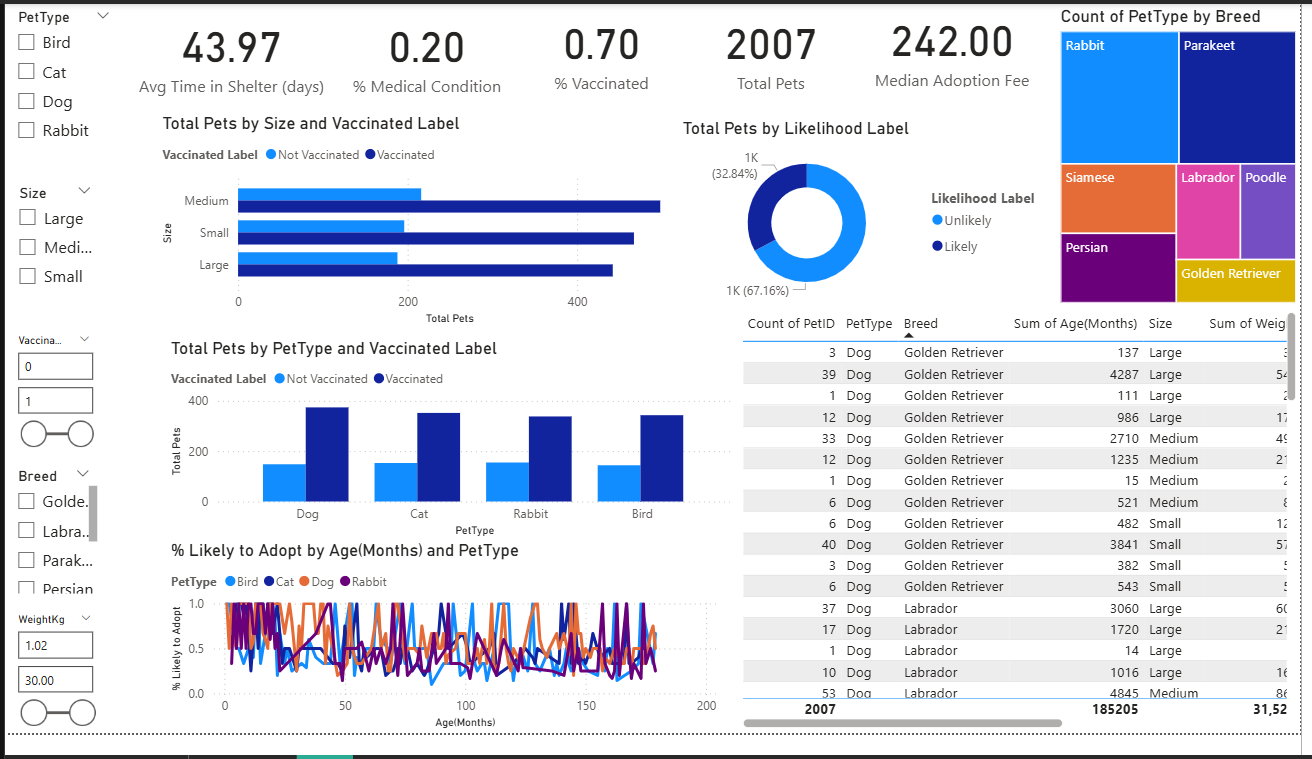

The dashboard page shown, as its layout file describes it:
{"tool":"powerbi","page":{"name":"Page 1","canvas":[1280,720],"ordinal":0},"visuals":[{"type":"card","fields":{"Values":["pet_adoption_data.% Vaccinated"]},"box":[513.5,3,150.8,86.8],"z":0},{"type":"card","fields":{"Values":["pet_adoption_data.% Medical Condition"]},"box":[321.5,0,192,97.5],"z":1000},{"type":"card","fields":{"Values":["pet_adoption_data.Avg Time in Shelter (days)"]},"box":[126.5,0,195,97.5],"z":2000},{"type":"card","fields":{"Values":["pet_adoption_data.Median Adoption Fee"]},"box":[833.4,0,204.2,86.8],"z":3000},{"type":"card","fields":{"Values":["pet_adoption_data.Total Pets"]},"box":[664.3,1.5,184.4,89.9],"z":4000},{"type":"donutChart","fields":{"Category":["pet_adoption_data.Likelihood Label"],"Y":["pet_adoption_data.Total Pets"]},"box":[664.3,112.7,373.3,187.4],"z":5000},{"type":"clusteredBarChart","fields":{"Category":["pet_adoption_data.Size"],"Y":["pet_adoption_data.Total Pets"],"Series":["pet_adoption_data.Vaccinated Label"]},"box":[150.8,108.2,513.5,213.3],"z":6000},{"type":"clusteredColumnChart","fields":{"Category":["pet_adoption_data.PetType"],"Y":["pet_adoption_data.Total Pets"],"Series":["pet_adoption_data.Vaccinated Label"]},"box":[158.5,329.1,563.7,201.1],"z":7000},{"type":"tableEx","fields":{"Values":["CountNonNull(pet_adoption_data.PetID)","pet_adoption_data.PetType","pet_adoption_data.Breed","Sum(pet_adoption_data.Age(Months))","pet_adoption_data.Size","Sum(pet_adoption_data.WeightKg)","Sum(pet_adoption_data.Vaccinated)","pet_adoption_data.Health Label","pet_adoption_data.Likelihood Label"]},"box":[722.2,300.2,557.6,420.5],"z":8000},{"type":"slicer","fields":{"Values":["pet_adoption_data.Breed"]},"box":[0,452.5,96,134.1],"z":9000},{"type":"slicer","fields":{"Values":["pet_adoption_data.PetType"]},"box":[0,0,115.8,156.9],"z":10000},{"type":"slicer","fields":{"Values":["pet_adoption_data.Size"]},"box":[1.5,173.7,96,153.9],"z":11000},{"type":"slicer","fields":{"Values":["pet_adoption_data.Vaccinated"]},"box":[0,321.5,96,126.5],"z":12000},{"type":"treemap","fields":{"Group":["pet_adoption_data.Breed"],"Values":["CountNonNull(pet_adoption_data.PetType)"]},"box":[1037.6,1.5,242.3,298.6],"z":13000},{"type":"slicer","fields":{"Values":["pet_adoption_data.WeightKg"]},"box":[0,595.7,97.5,124.9],"z":14000},{"type":"lineChart","fields":{"Category":["pet_adoption_data.Age(Months)"],"Y":["pet_adoption_data.% Likely to Adopt"],"Series":["pet_adoption_data.PetType"]},"box":[158.5,530.2,548.5,190.5],"z":15000}]}

Visuals, with their boxes in screenshot pixels (x1, y1, x2, y2), scaled from the page's 1280x720 canvas onto the 1312x759 screenshot:
card - pet_adoption_data.% Vaccinated: select_region(526, 3, 681, 95)
card - pet_adoption_data.% Medical Condition: select_region(330, 0, 526, 103)
card - pet_adoption_data.Avg Time in Shelter (days): select_region(130, 0, 330, 103)
card - pet_adoption_data.Median Adoption Fee: select_region(854, 0, 1064, 92)
card - pet_adoption_data.Total Pets: select_region(681, 2, 870, 96)
donutChart - pet_adoption_data.Likelihood Label x pet_adoption_data.Total Pets: select_region(681, 119, 1064, 316)
clusteredBarChart - pet_adoption_data.Size x pet_adoption_data.Total Pets: select_region(155, 114, 681, 339)
clusteredColumnChart - pet_adoption_data.PetType x pet_adoption_data.Total Pets: select_region(162, 347, 740, 559)
tableEx - CountNonNull(pet_adoption_data.PetID) x pet_adoption_data.PetType: select_region(740, 316, 1311, 758)
slicer - pet_adoption_data.Breed: select_region(0, 477, 98, 618)
slicer - pet_adoption_data.PetType: select_region(0, 0, 119, 165)
slicer - pet_adoption_data.Size: select_region(2, 183, 100, 345)
slicer - pet_adoption_data.Vaccinated: select_region(0, 339, 98, 472)
treemap - pet_adoption_data.Breed x CountNonNull(pet_adoption_data.PetType): select_region(1064, 2, 1311, 316)
slicer - pet_adoption_data.WeightKg: select_region(0, 628, 100, 758)
lineChart - pet_adoption_data.Age(Months) x pet_adoption_data.% Likely to Adopt: select_region(162, 559, 725, 758)
